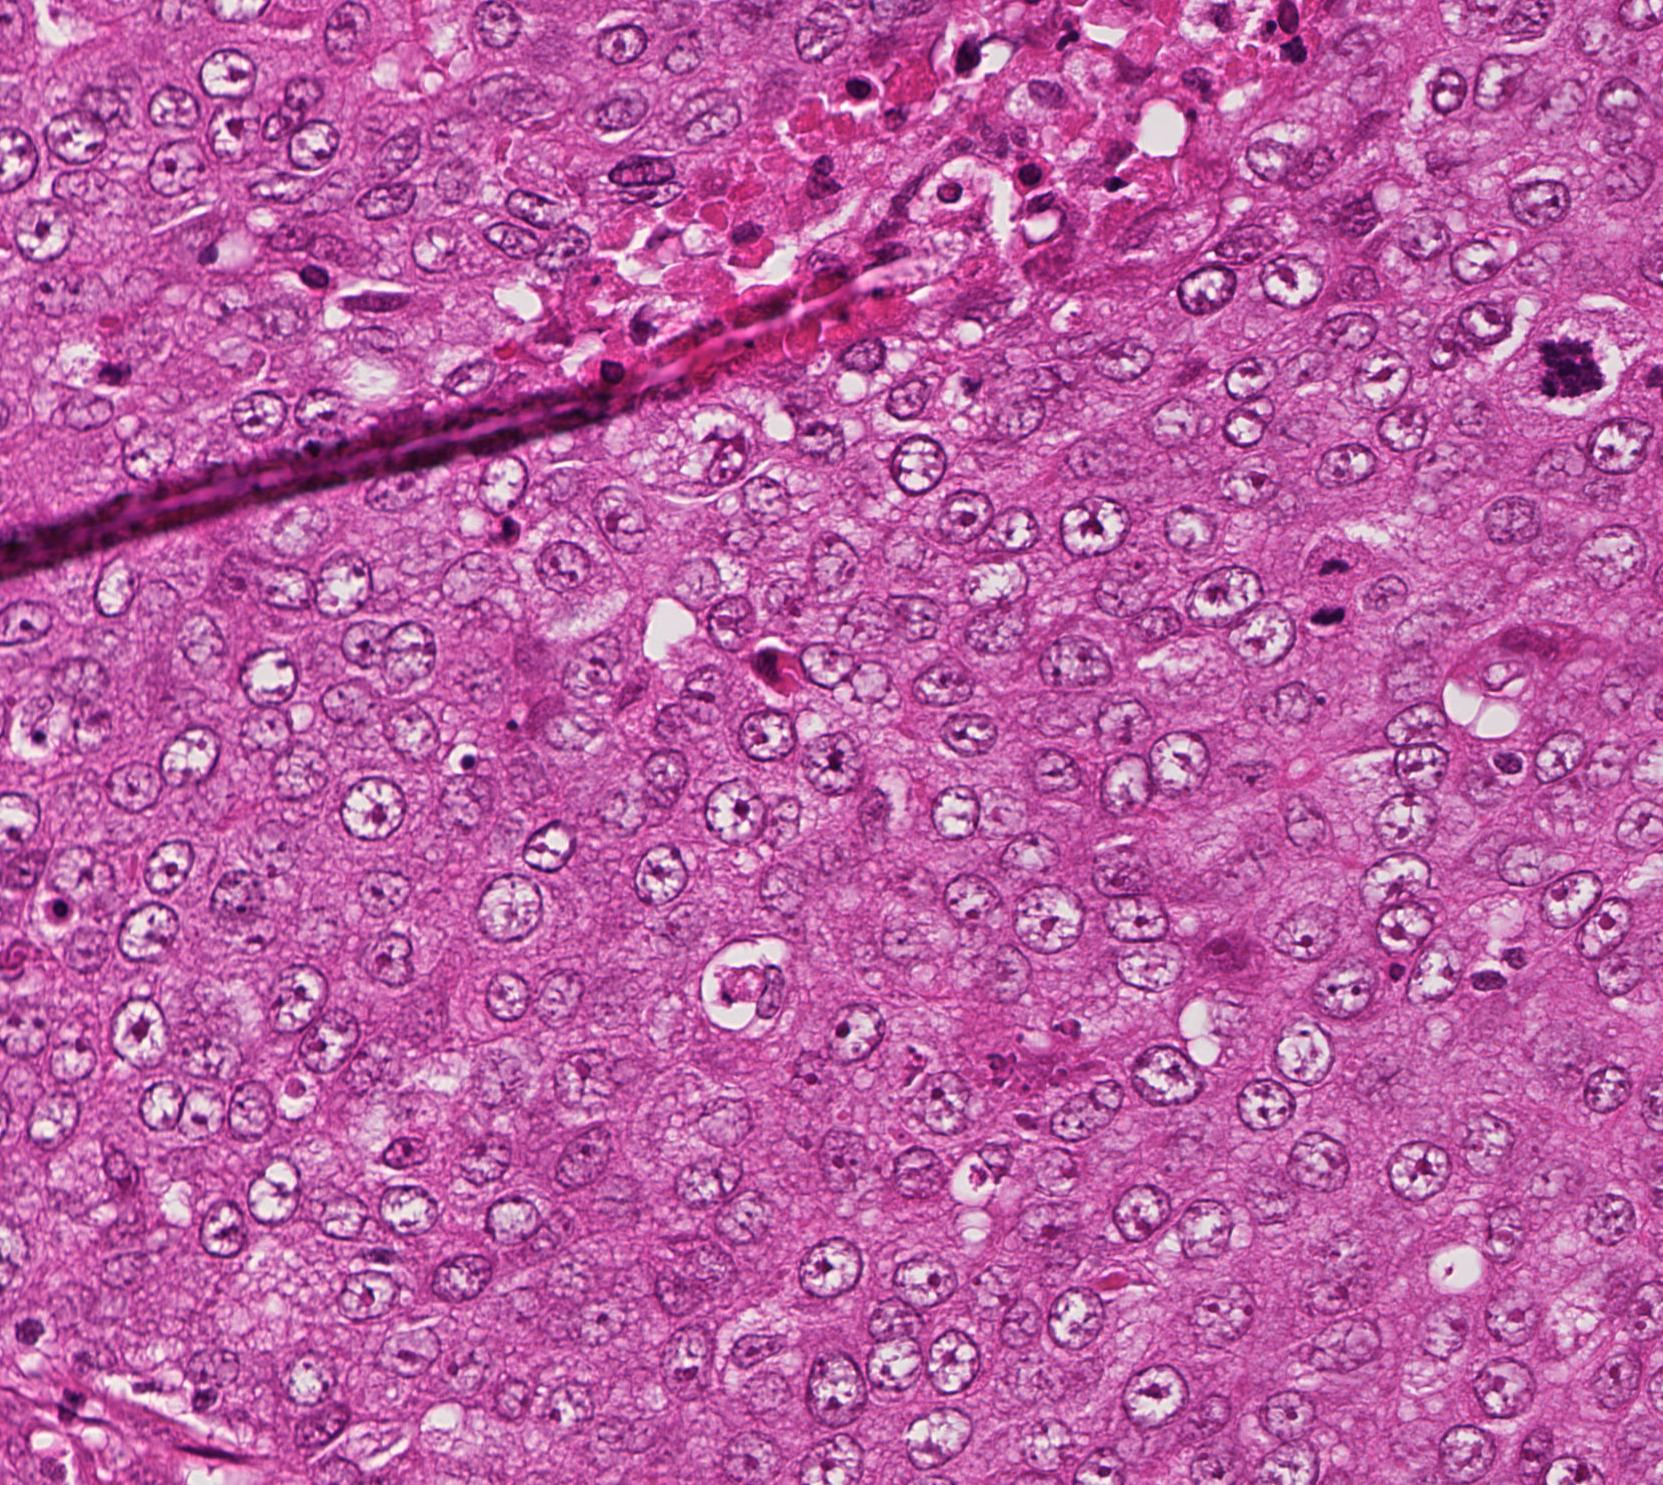mitosis: (1531, 340, 1591, 400), (90, 334, 151, 394), (1305, 558, 1365, 618)
